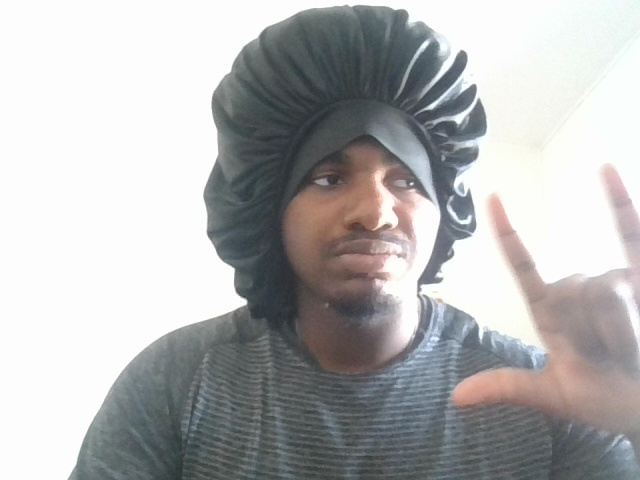I Love You: (440, 176, 640, 431)
